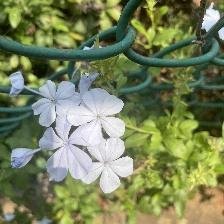chitrak: (71, 86, 130, 151), (80, 140, 133, 194), (42, 122, 90, 179), (36, 79, 79, 123)
